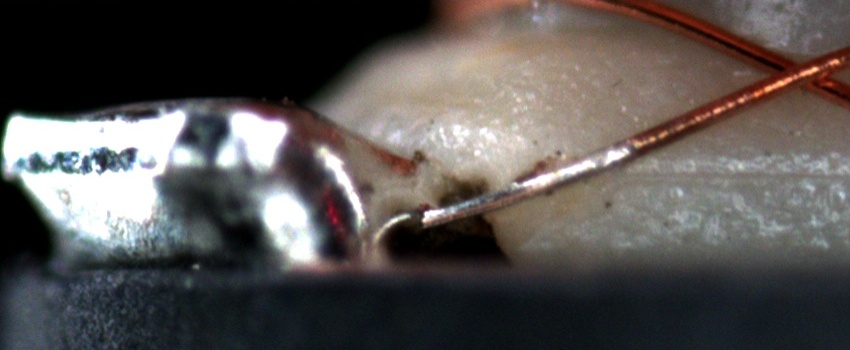CL: (746, 43, 843, 99)
DL: (619, 144, 850, 205)
TS: (415, 139, 638, 228)
